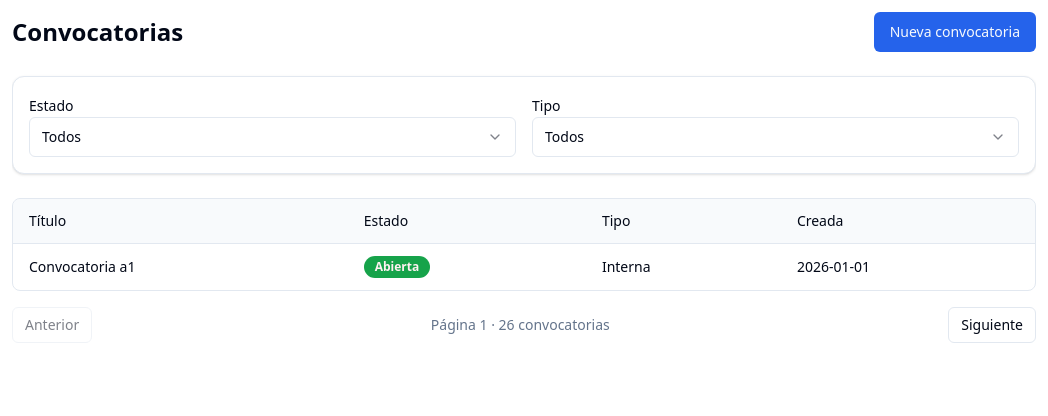
Test: CallList — filter refetch wiring › resets to page 1 when a filter is applied from a later page
Expected: the link "Convocatoria a1" is shown, x1=29 y1=257 x2=135 y2=276
What coordinates should you click on to do the following:
click the button "Siguiente"
I would click on:
 (992, 325)
Its box is x1=948 y1=307 x2=1036 y2=343.
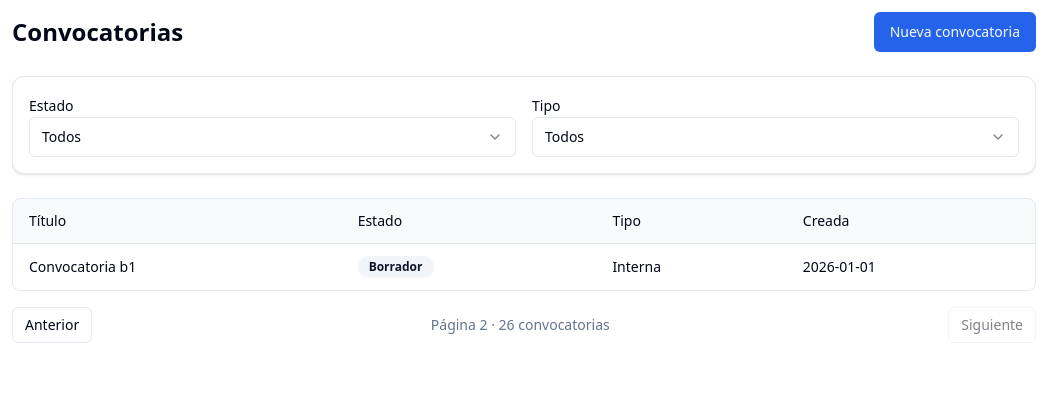
Result: the link "Convocatoria b1" is shown at x1=29 y1=257 x2=136 y2=276
What coordinates should you click on to do the following:
click the dropdown named "estado"
I would click on:
 (62, 136)
Its box is x1=29 y1=117 x2=516 y2=157.
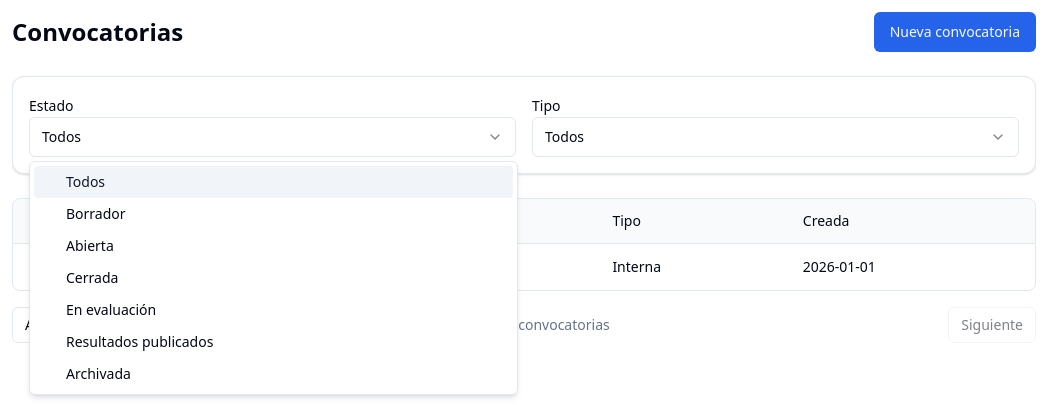
What coordinates should you click on to do the following:
click the option "Abierta"
I would click on:
 (90, 246)
Its box is x1=66 y1=236 x2=114 y2=255.
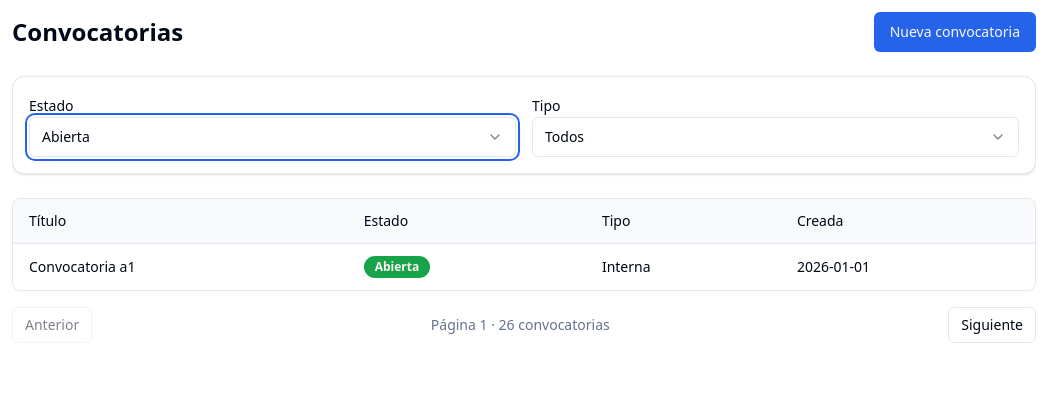
Result: the link "Convocatoria a1" is shown at x1=29 y1=257 x2=135 y2=276
Result: the link "Convocatoria b1" is gone
